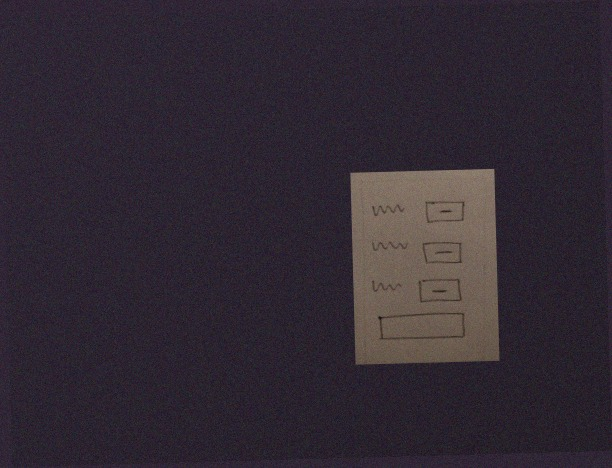button: (416, 276, 465, 306), (421, 196, 467, 227), (421, 239, 466, 267)
text: (368, 237, 410, 256), (367, 201, 407, 219), (370, 277, 404, 295)
text_input: (373, 309, 468, 346)
